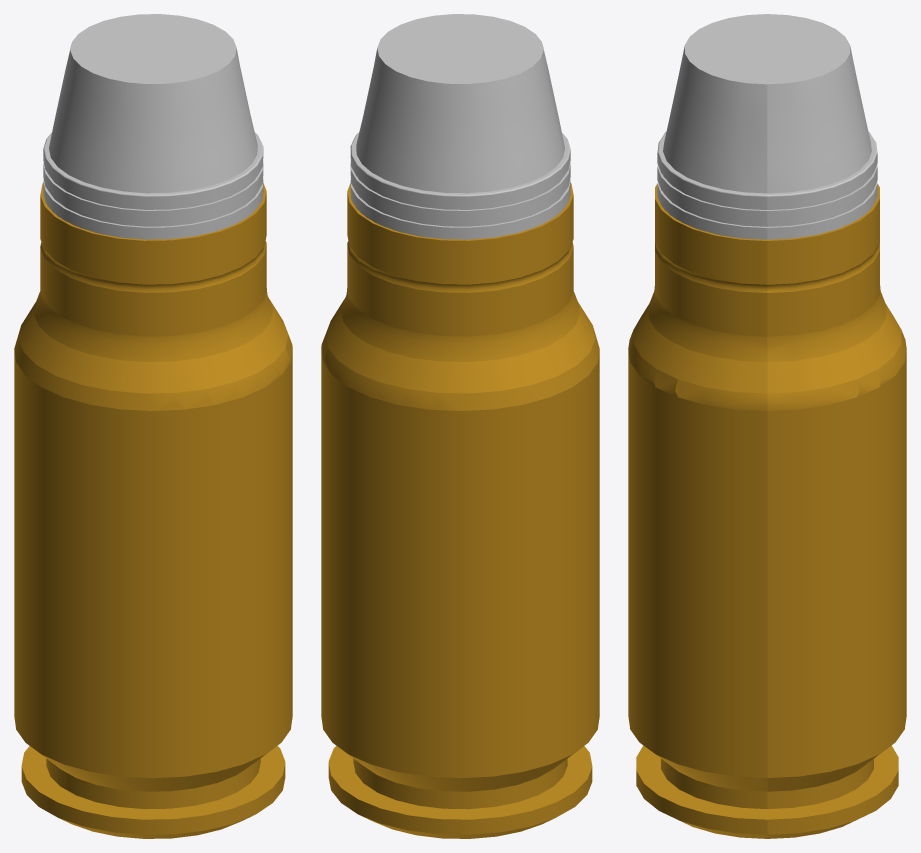
3 renders of one model, left to right at view 1: azimuth 30°, elevation 25°; view 2: azimuth 150°, elevation 25°; view 3: azimuth 270°, elevation 25°, orthographic.
Parts seen in each view (by area): view 1: o4_IndexedFaceSet_o4_IndexedFaceSet.010, o12_IndexedFaceSet_o12_IndexedFaceSet.015; view 2: o4_IndexedFaceSet_o4_IndexedFaceSet.010, o12_IndexedFaceSet_o12_IndexedFaceSet.015; view 3: o4_IndexedFaceSet_o4_IndexedFaceSet.010, o12_IndexedFaceSet_o12_IndexedFaceSet.015.
Part boxes in pixels (bbox=[...]): o4_IndexedFaceSet_o4_IndexedFaceSet.010: bbox=[14, 183, 292, 838]; o12_IndexedFaceSet_o12_IndexedFaceSet.015: bbox=[43, 14, 263, 239]; o4_IndexedFaceSet_o4_IndexedFaceSet.010: bbox=[321, 183, 599, 838]; o12_IndexedFaceSet_o12_IndexedFaceSet.015: bbox=[350, 14, 570, 239]; o4_IndexedFaceSet_o4_IndexedFaceSet.010: bbox=[628, 184, 906, 838]; o12_IndexedFaceSet_o12_IndexedFaceSet.015: bbox=[657, 14, 877, 239].
Bounding box in the file's own units: 13.74 × 40.56 × 13.77.
